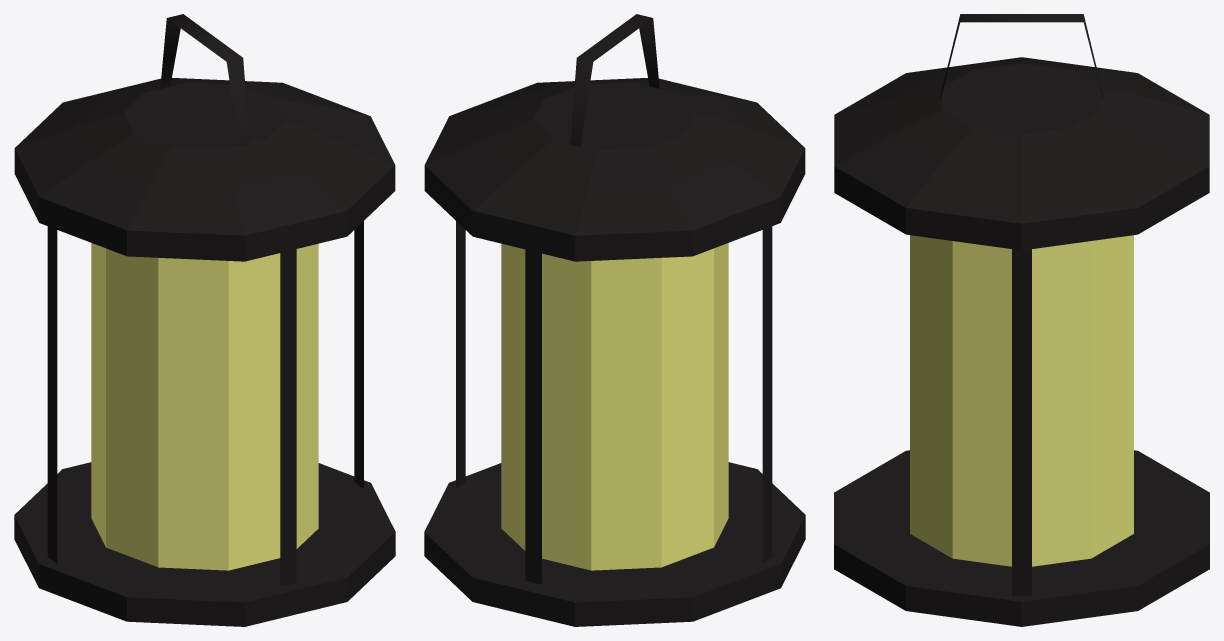
File: Lantern.fbx
The picture shows the model from 3 angles, left to right: view 1: azimuth 30°, elevation 25°; view 2: azimuth 150°, elevation 25°; view 3: azimuth 270°, elevation 25°; orthographic projection. The views are drawn at different scales.
Parts seen in each view (by area): view 1: pPlane6; view 2: pPlane6; view 3: pPlane6.
Part boxes in pixels (x1=…): pPlane6: x1=14, y1=14, x2=395, y2=626; pPlane6: x1=424, y1=14, x2=805, y2=626; pPlane6: x1=834, y1=14, x2=1209, y2=626.
Bounding box in the file's own units: 0.2 × 0.3023 × 0.1902.
